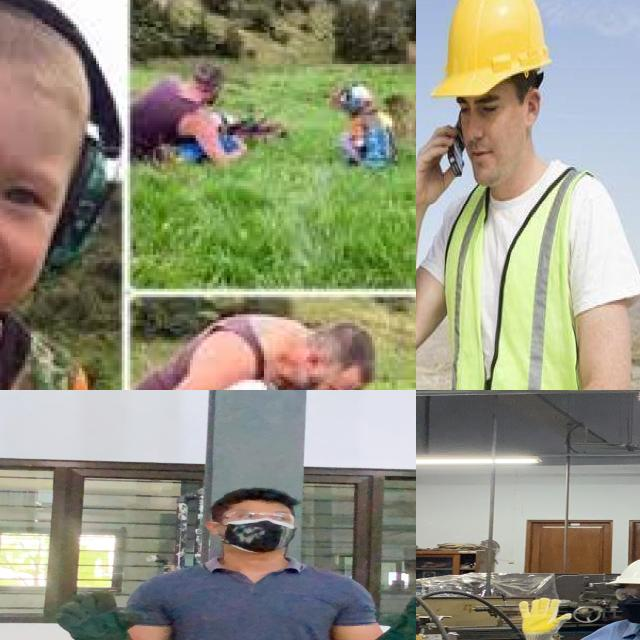Ear-protection: (36, 130, 116, 272), (210, 115, 233, 138), (338, 90, 358, 110)
face_mask: (214, 505, 301, 552), (605, 584, 640, 626)
face_nomask: (453, 94, 510, 171)
glasses: (210, 509, 297, 526), (608, 587, 640, 601)
hand_glove: (52, 587, 144, 640), (508, 595, 578, 640), (372, 591, 416, 640)
hand_noglove: (425, 0, 555, 102), (416, 122, 469, 204)
head_helmet: (601, 550, 640, 590)
head_nohelmet: (214, 486, 304, 514)
person: (416, 0, 640, 390), (0, 0, 125, 390), (116, 481, 416, 640), (504, 552, 640, 640)
vest: (440, 160, 640, 390)
